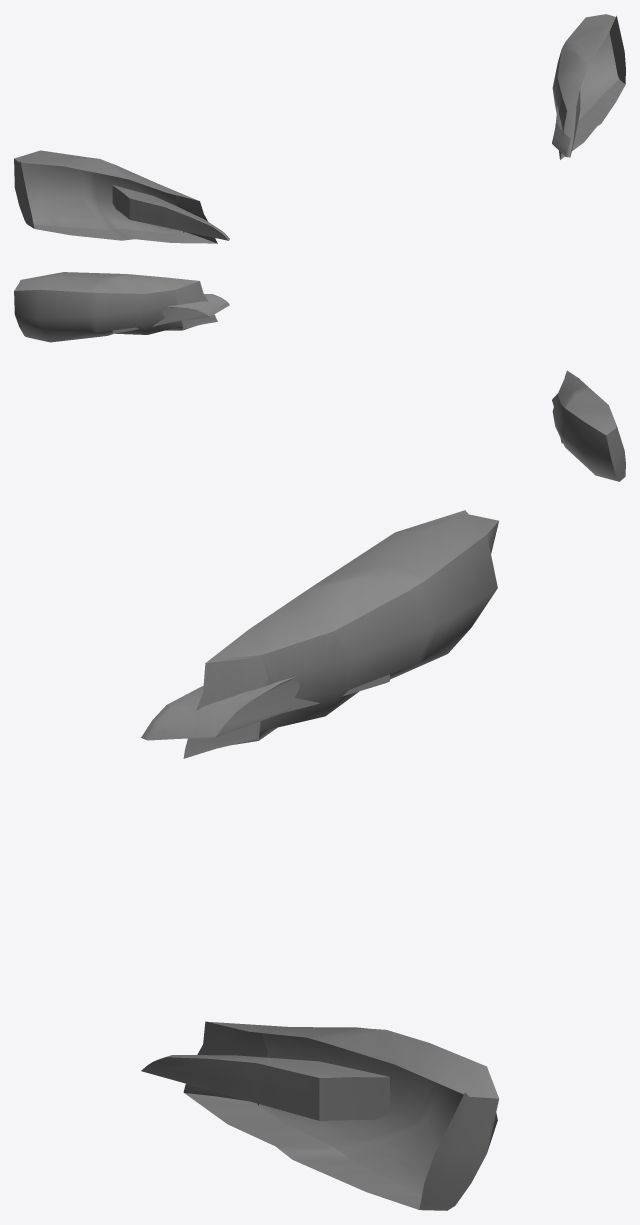
Rendered from headLightReflector.obj.
3 views of the same model, one above another, from view 1: azimuth 30°, elevation 25°; view 2: azimuth 150°, elevation 25°; view 3: azimuth 270°, elevation 25° (orthographic). The views are drawn at different scales.
Parts seen in each view (by area): view 1: headLightReflector; view 2: headLightReflector; view 3: headLightReflector.
Boxes of the visible parts, x1,y1,x2,y2 form: headLightReflector: (14, 14, 625, 243); headLightReflector: (14, 272, 625, 481); headLightReflector: (141, 510, 498, 1210).
Size of the model in its own units: 164 by 16.86 by 42.55.
1 material, 1 textured.
